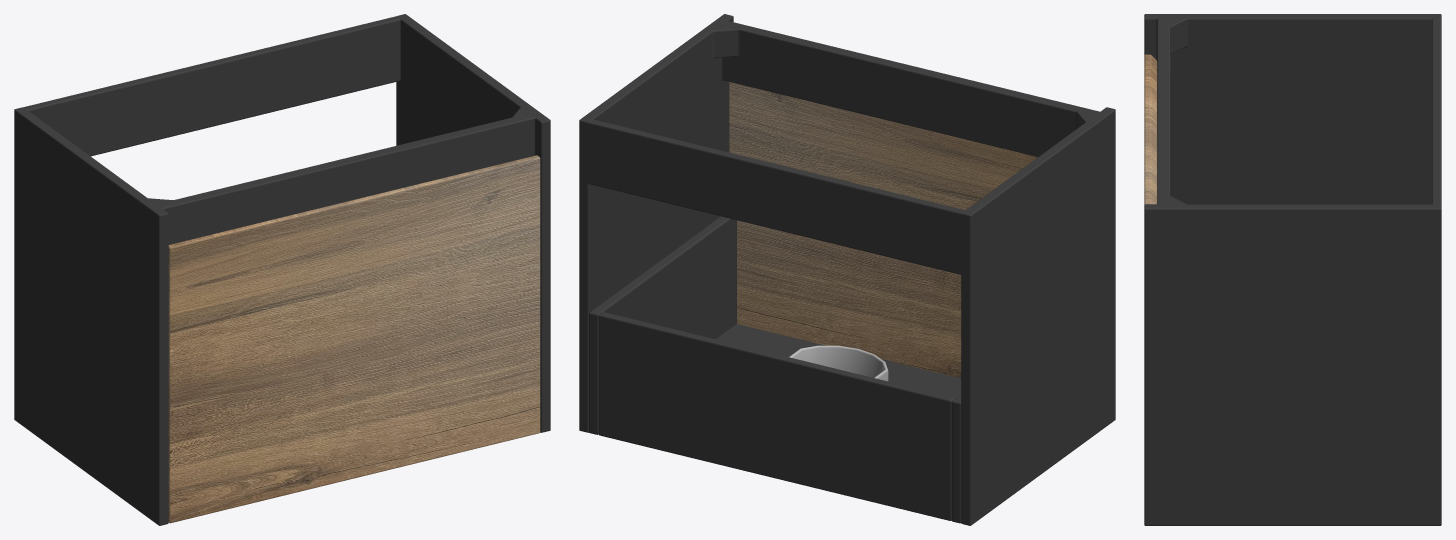
The model's file is Vanity-Cabinet-Hybrid-Walnut-600mm.glb.
3 views of the same model, side by side, from view 1: azimuth 30°, elevation 25°; view 2: azimuth 150°, elevation 25°; view 3: azimuth 270°, elevation 25° (orthographic). The views are drawn at different scales.
Visible parts, largest first — view 1: VC60; view 2: VC60; view 3: VC60.
Boxes of the visible parts, x1,y1,x2,y2 form: VC60: (14,14,550,525); VC60: (579,14,1115,525); VC60: (1144,14,1441,525).
Bounding box in the file's own units: 0.6 × 0.455 × 0.386.
Materials: 3 (1 with a texture image).
